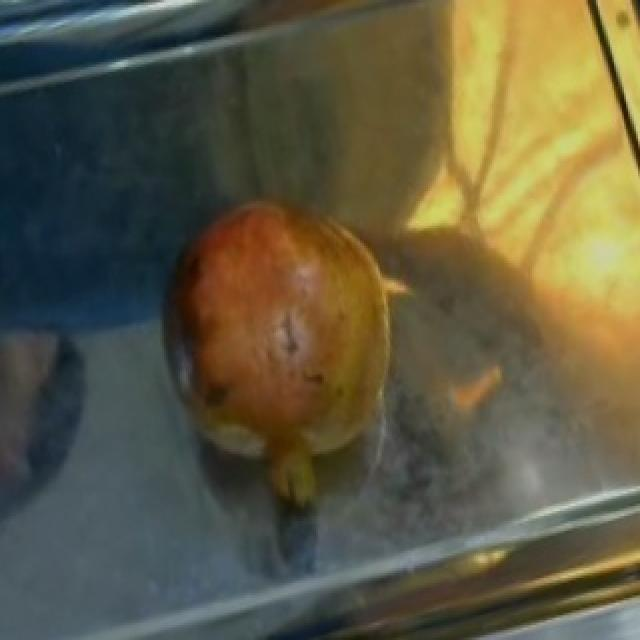fruit: (146, 174, 430, 424)
